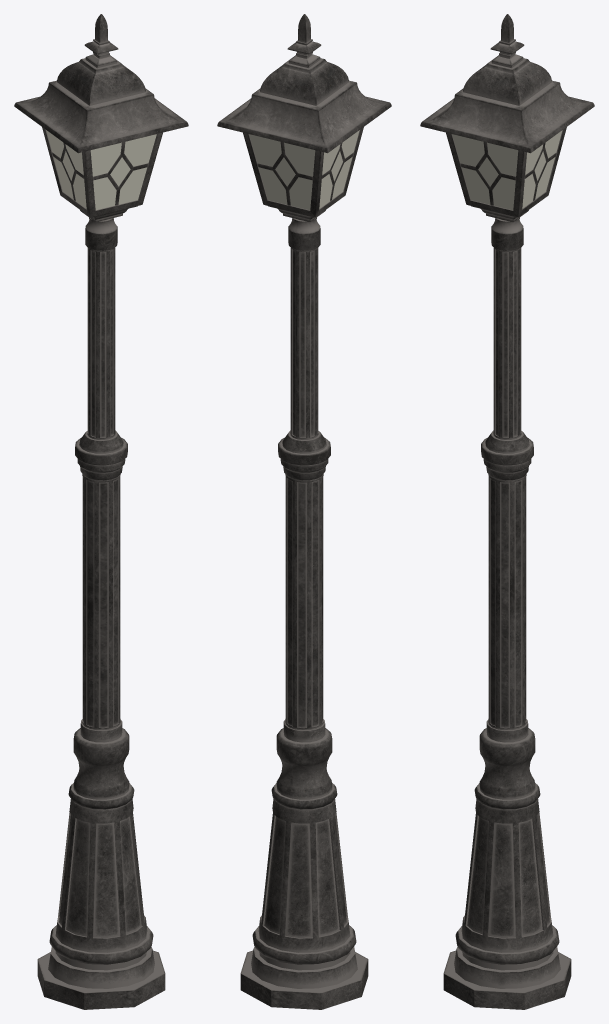
File: Street_Lamp_1.fbx
The picture shows the model from 3 angles, left to right: view 1: azimuth 30°, elevation 25°; view 2: azimuth 150°, elevation 25°; view 3: azimuth 330°, elevation 25°; orthographic projection.
Visible parts, largest first — view 1: Lamp, glass; view 2: Lamp, glass; view 3: Lamp, glass.
Boxes of the visible parts, x1,y1,x2,y2 form: Lamp: (14, 14, 188, 1009); glass: (46, 130, 156, 210); Lamp: (217, 14, 391, 1009); glass: (249, 130, 359, 210); Lamp: (420, 14, 594, 1009); glass: (452, 130, 562, 210).
Size of the model in its own units: 42.58 by 344 by 42.58.
3 materials, 1 textured.
